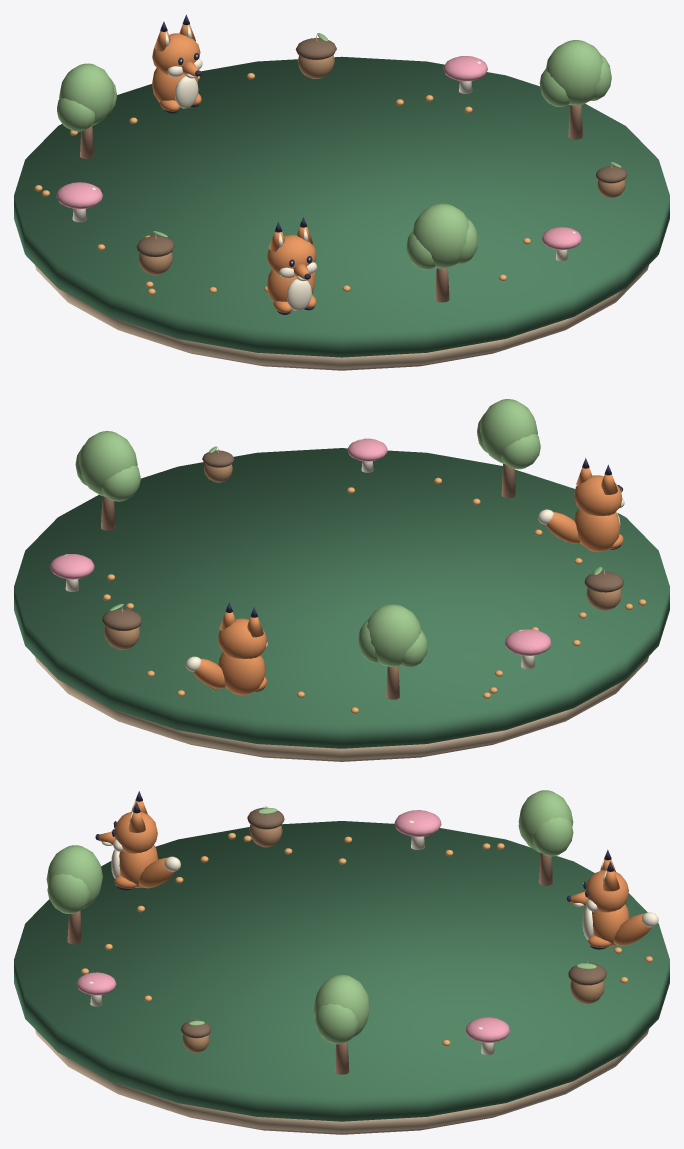
Rendered from world.glb.
3 renders of one model, top to bottom at view 1: azimuth 30°, elevation 25°; view 2: azimuth 150°, elevation 25°; view 3: azimuth 270°, elevation 25°, orthographic.
Parts seen in each view (by area): view 1: Cone, Cone.001, tree.001, tree.003, fox.002, fox.001, tree.002, acorn.001, acorn.002, mushroom.002, mushroom.001, mushroom.003 (+2 smaller); view 2: Cone, Cone.001, fox.002, fox.001, tree.001, tree.002, tree.003, acorn.001, acorn.002, mushroom.002, mushroom.001, mushroom.003 (+2 smaller); view 3: Cone, Cone.001, fox.001, fox.002, tree.001, tree.003, tree.002, acorn.001, acorn.002, mushroom.002, mushroom.001, mushroom.003 (+2 smaller).
Boxes of the visible parts, x1,y1,x2,y2 form: Cone: [14, 56, 669, 357]; Cone.001: [35, 265, 648, 369]; tree.001: [539, 40, 611, 139]; tree.003: [406, 203, 477, 302]; fox.002: [267, 217, 317, 314]; fox.001: [152, 14, 202, 113]; tree.002: [57, 63, 116, 159]; acorn.001: [295, 33, 336, 78]; acorn.002: [136, 231, 174, 275]; mushroom.002: [56, 182, 103, 222]; mushroom.001: [443, 56, 487, 93]; mushroom.003: [541, 227, 581, 261]; Cone: [14, 448, 669, 748]; Cone.001: [35, 656, 648, 760]; fox.002: [538, 458, 624, 552]; fox.001: [185, 602, 267, 695]; tree.001: [75, 431, 140, 530]; tree.002: [358, 604, 427, 699]; tree.003: [477, 399, 540, 497]; acorn.001: [102, 603, 142, 649]; acorn.002: [584, 566, 623, 610]; mushroom.002: [505, 629, 551, 669]; mushroom.001: [50, 554, 94, 591]; mushroom.003: [347, 438, 387, 472]; Cone: [14, 821, 669, 1121]; Cone.001: [35, 1029, 648, 1133]; fox.001: [566, 849, 658, 949]; fox.002: [95, 791, 180, 890]; tree.001: [313, 975, 370, 1074]; tree.003: [46, 845, 102, 944]; tree.002: [518, 790, 573, 885]; acorn.001: [568, 960, 606, 1004]; acorn.002: [247, 806, 284, 847]; mushroom.002: [394, 810, 441, 849]; mushroom.001: [465, 1017, 509, 1055]; mushroom.003: [76, 972, 116, 1006].
Size of the model in its own units: 9.6 by 2.32 by 9.6.
